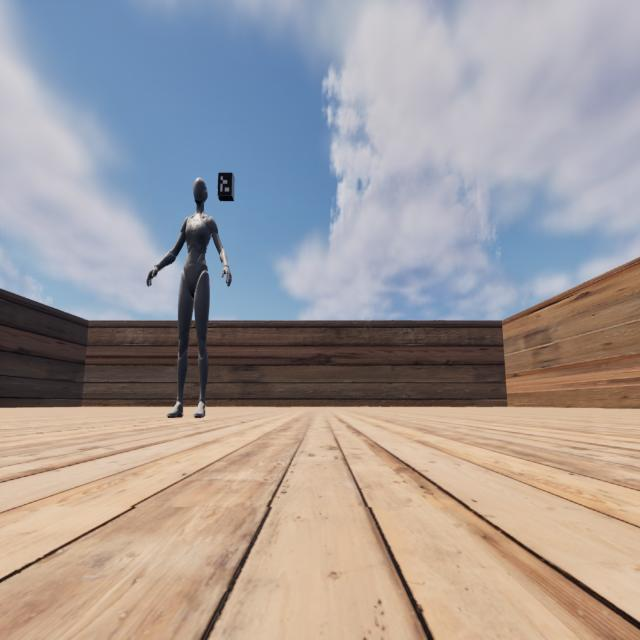aruco: (218, 172, 232, 196)
hip: (181, 272, 209, 279)
